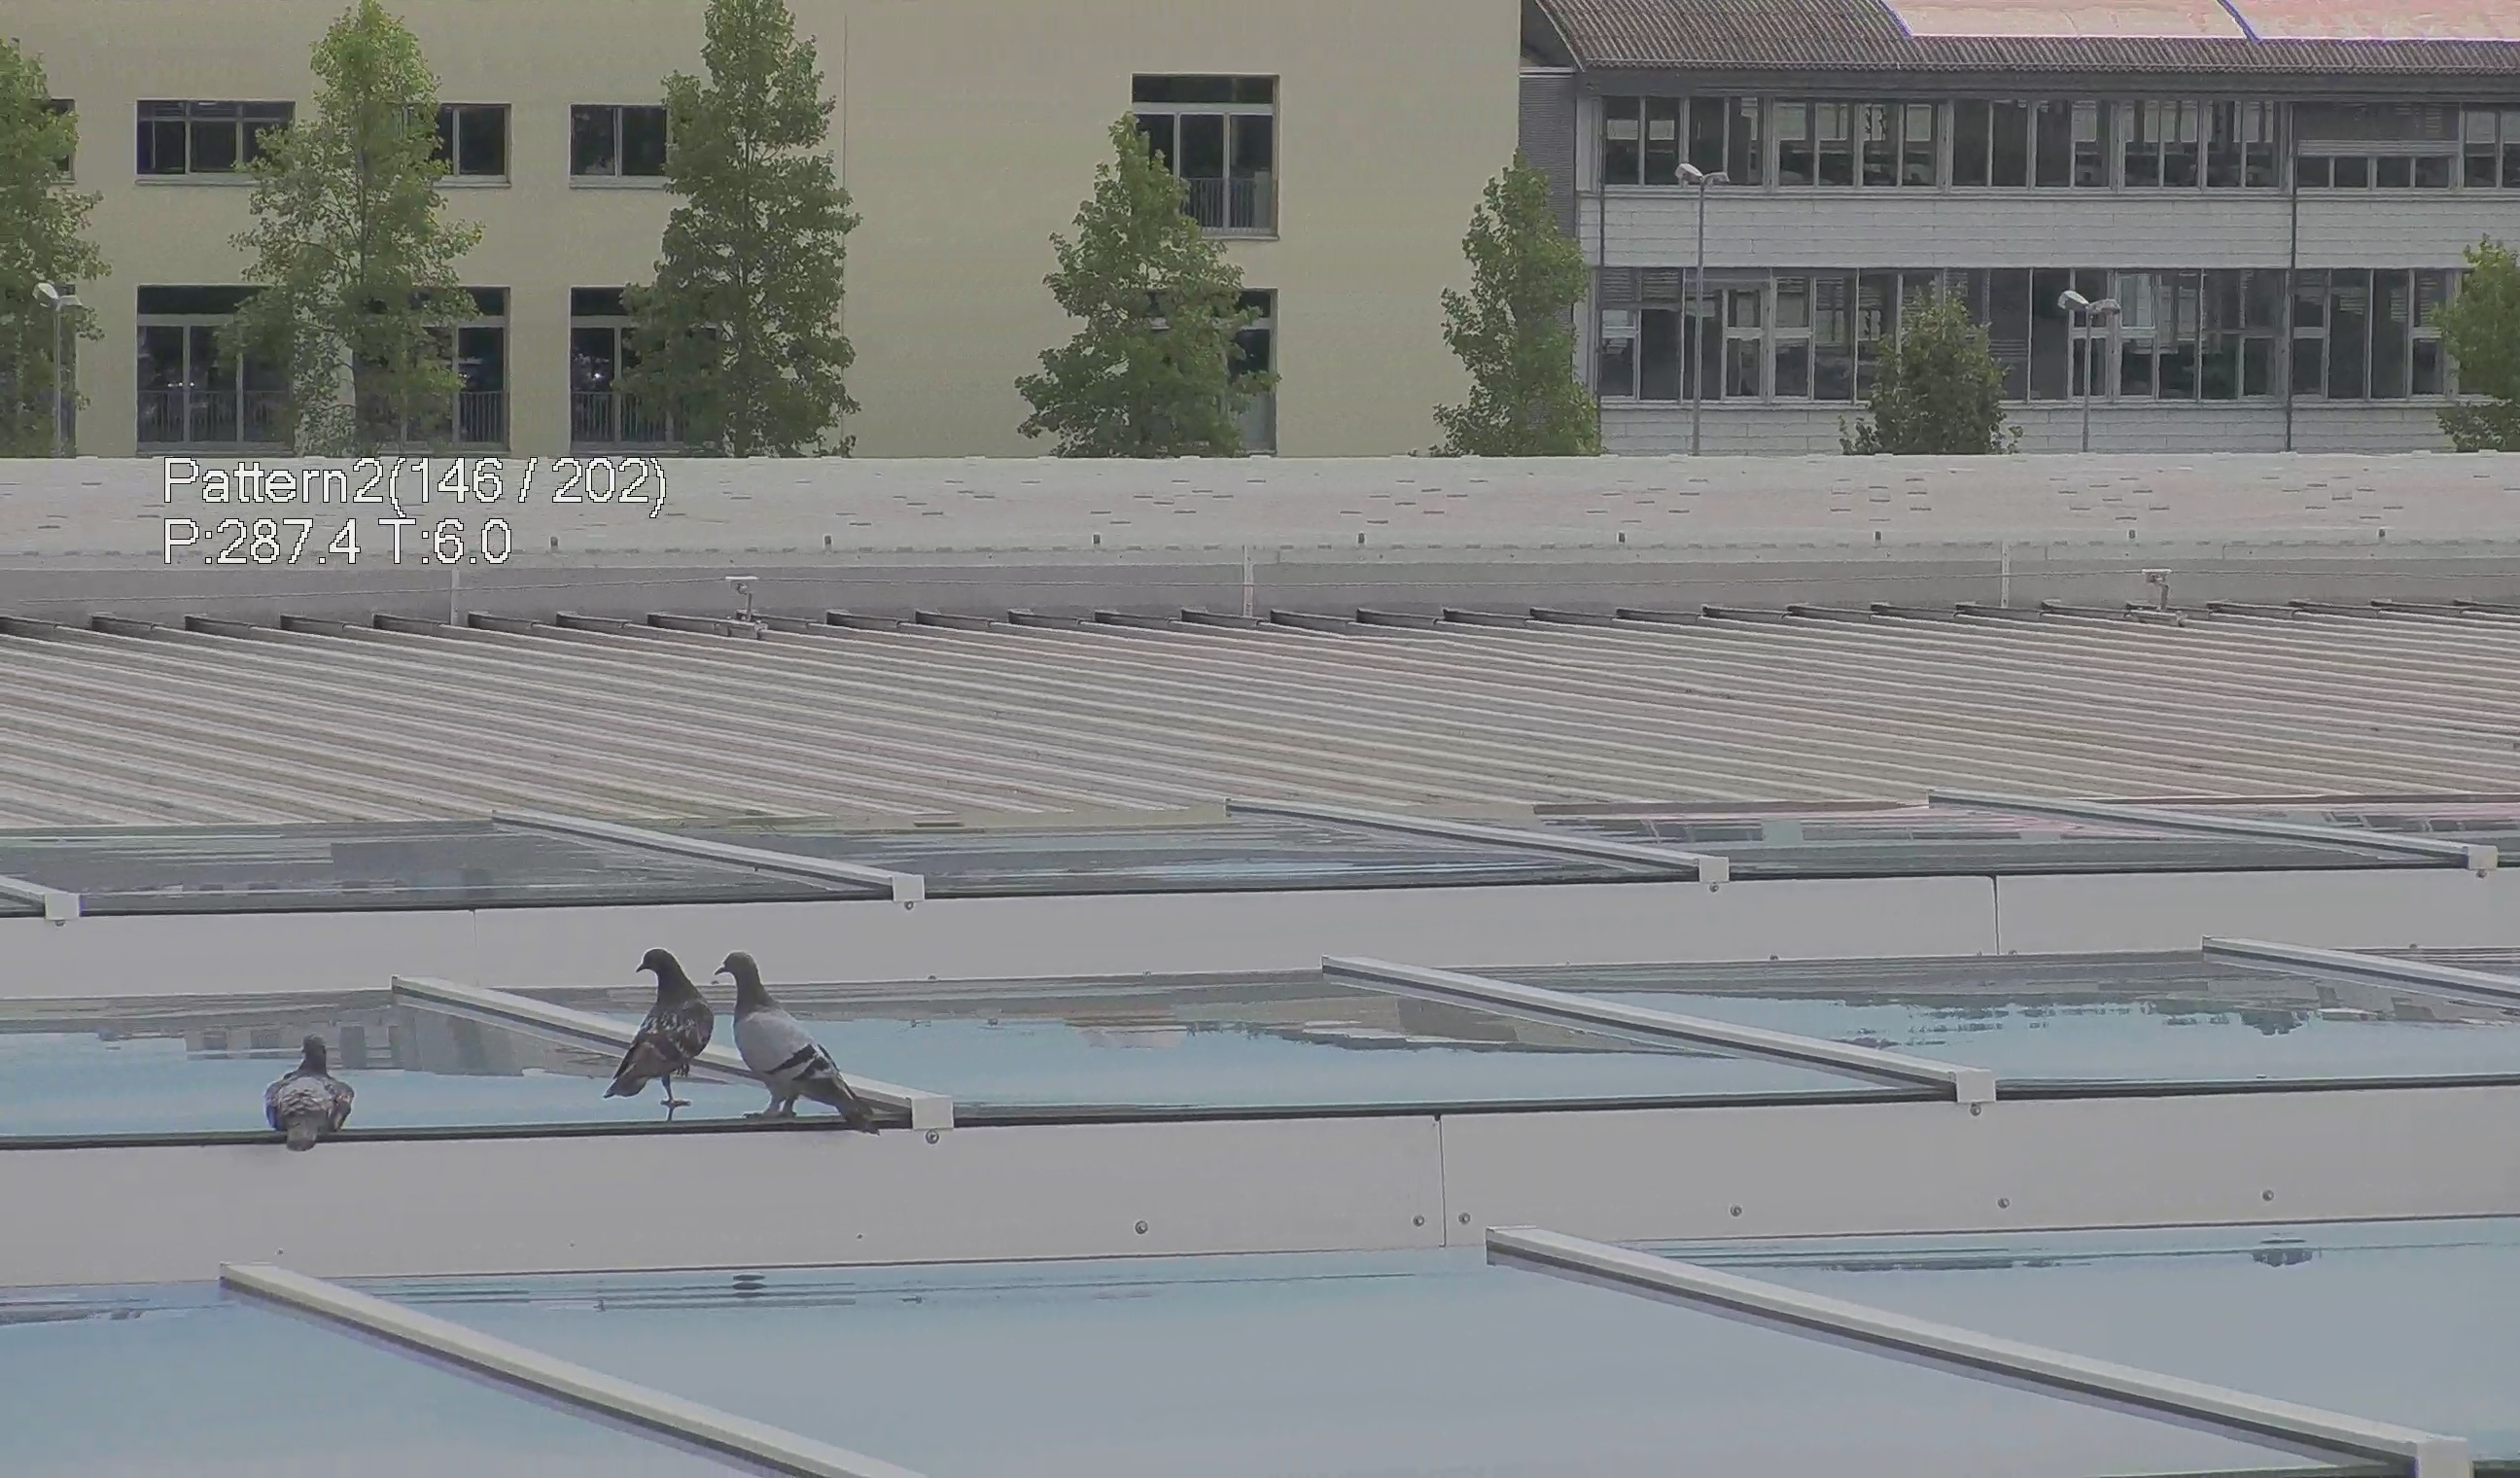Pigeon: (691, 950, 900, 1135), (587, 952, 716, 1110), (266, 1029, 369, 1170)
